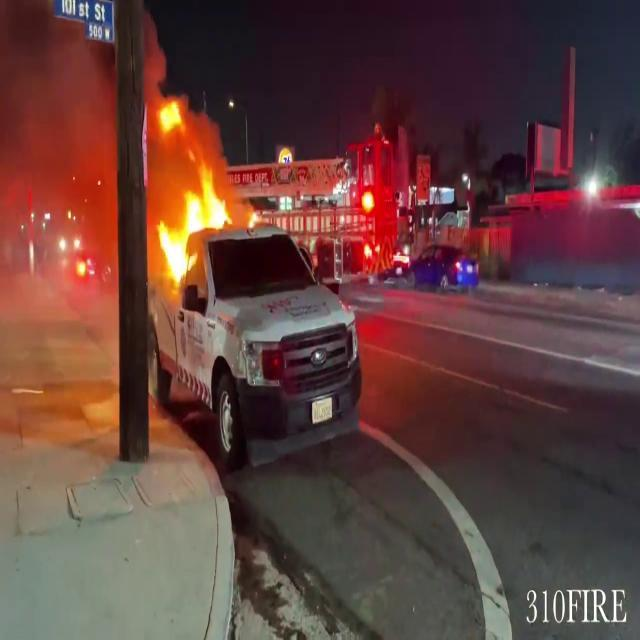Fire: (148, 97, 242, 286)
Smoke: (0, 0, 114, 282)
